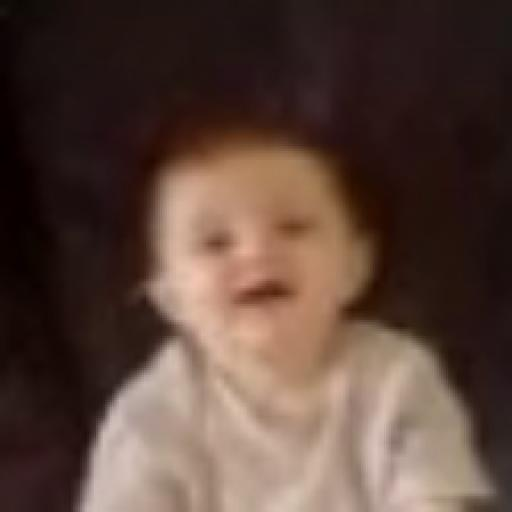Autism: (155, 148, 378, 373)
